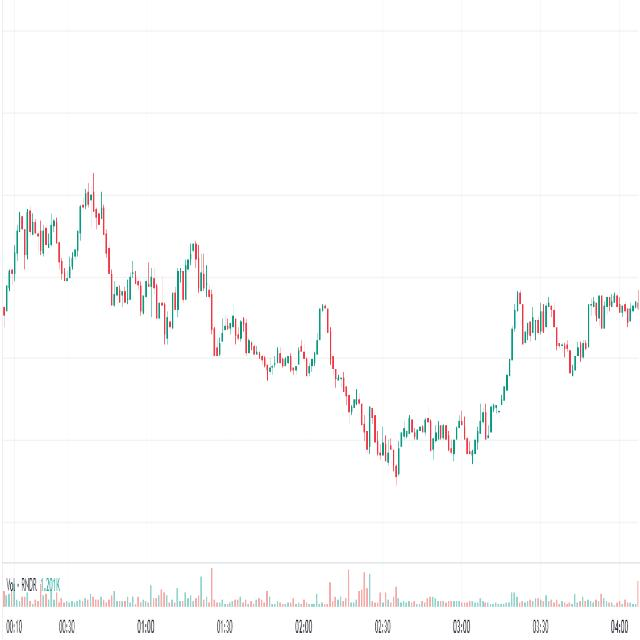Rounding-Bottom: (327, 319, 520, 513)
